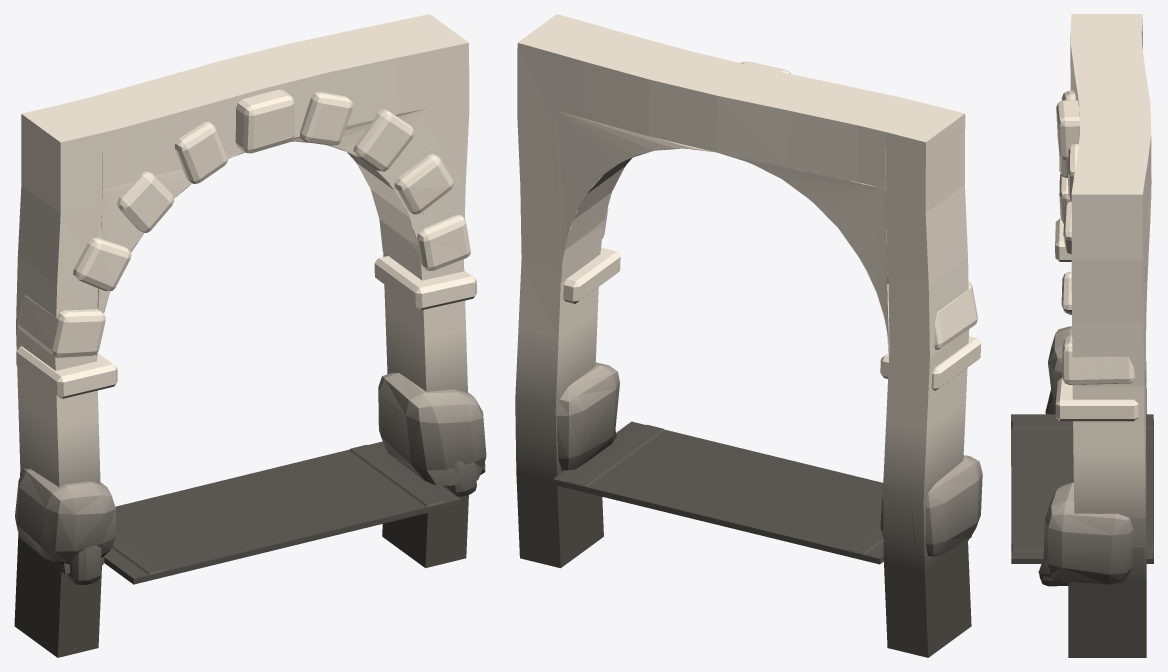
The model's file is SM_VK_Wall_Stone_Passage.fbx.
3 views of the same model, side by side, from view 1: azimuth 30°, elevation 25°; view 2: azimuth 150°, elevation 25°; view 3: azimuth 270°, elevation 25° (orthographic). The views are drawn at different scales.
Visible parts, largest first — view 1: SM_VK_Wall_Stone_Passage.001; view 2: SM_VK_Wall_Stone_Passage.001; view 3: SM_VK_Wall_Stone_Passage.001.
Part boxes in pixels (left/top/right/bottom): SM_VK_Wall_Stone_Passage.001: left=14, top=14, right=486, bottom=657; SM_VK_Wall_Stone_Passage.001: left=515, top=14, right=982, bottom=657; SM_VK_Wall_Stone_Passage.001: left=1011, top=14, right=1153, bottom=657.
Size of the model in its own units: 3.21 by 3.6 by 1.
